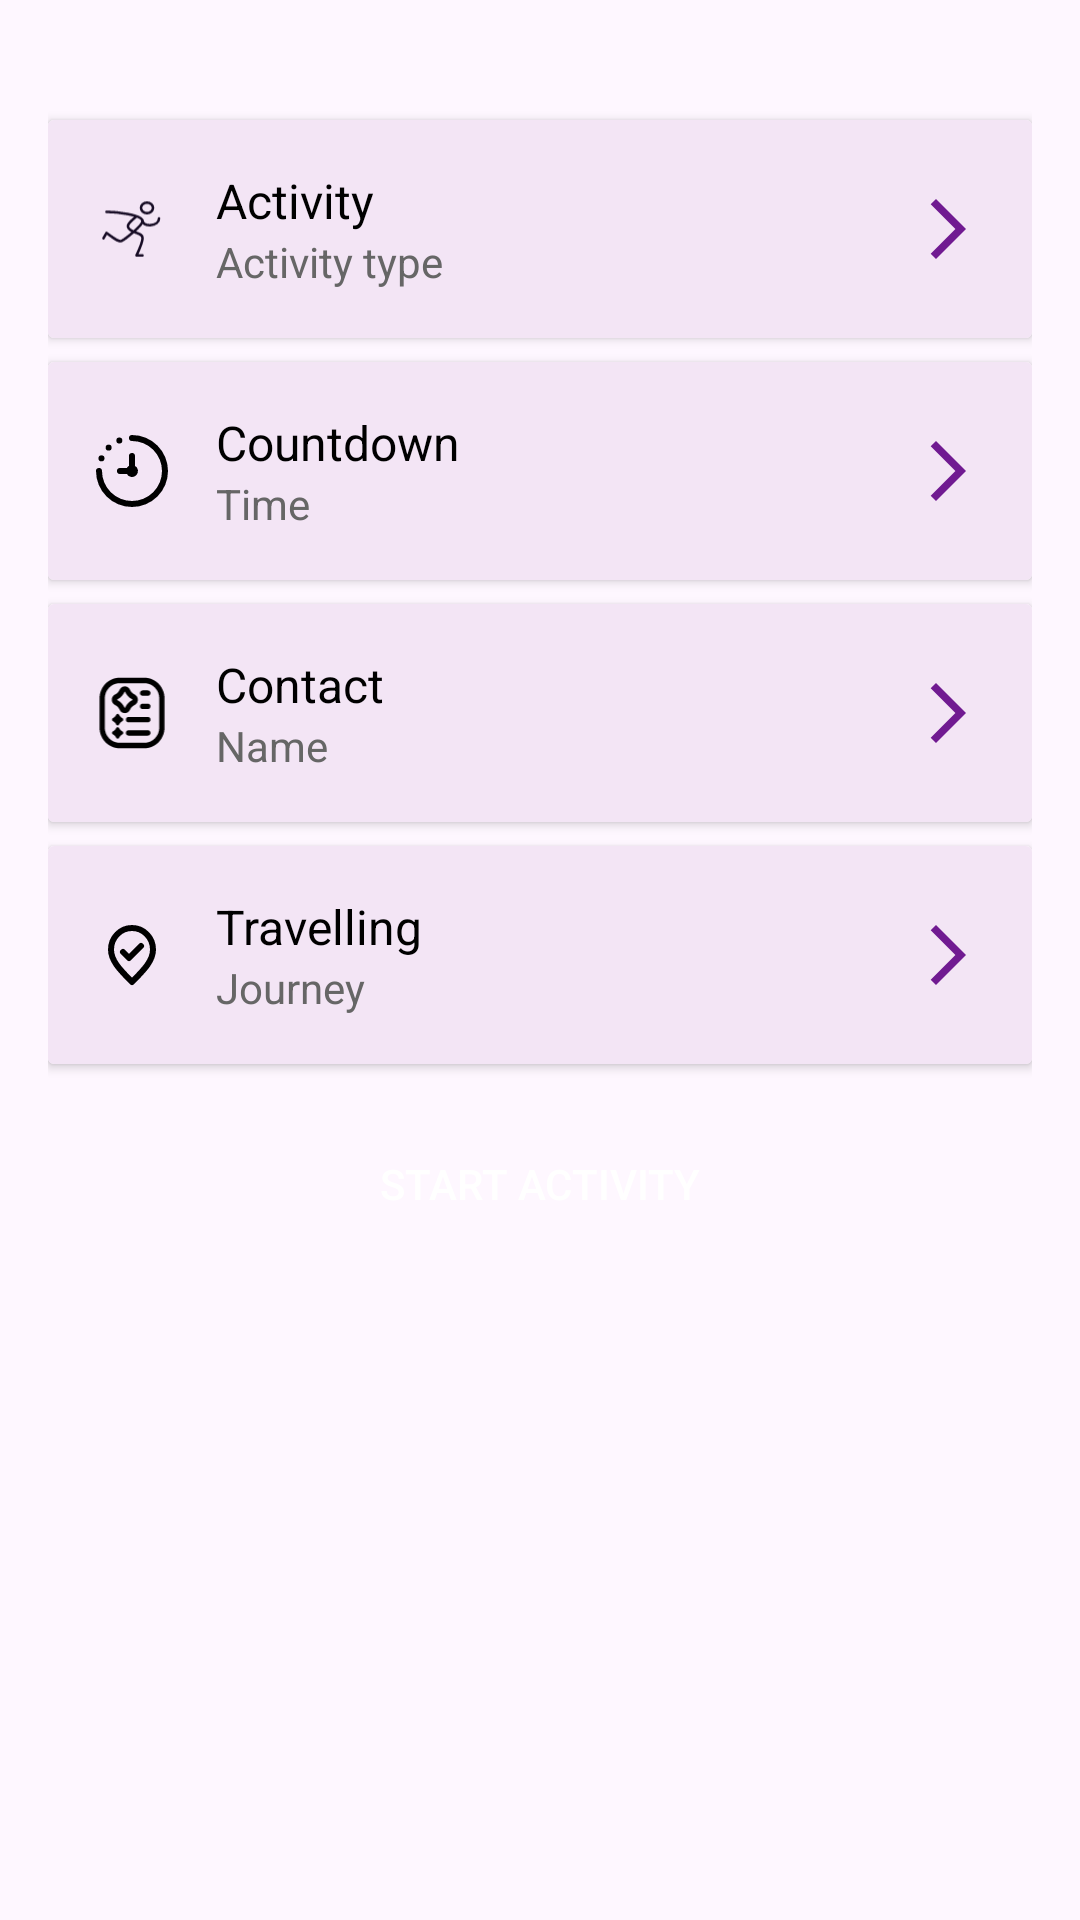

Screen size 1080w x 1920h. Icon name, then its box in pixels as detection(x1, y1, x2, y2):
arrow right: detection(931, 199, 966, 259), detection(931, 441, 966, 501), detection(931, 683, 966, 743), detection(931, 925, 966, 985)
clock: detection(96, 435, 168, 507)
location: detection(108, 925, 156, 985)
run: detection(102, 201, 161, 257)
